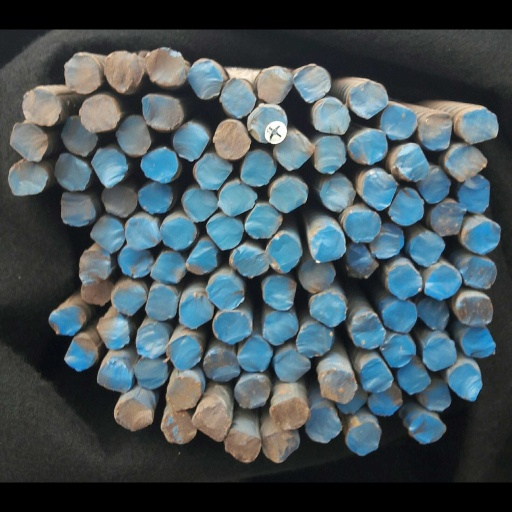dipstick: (104, 23, 142, 71), (247, 83, 287, 128), (144, 20, 184, 63), (446, 129, 486, 172), (10, 105, 48, 150), (61, 97, 98, 143), (22, 66, 61, 109), (115, 96, 152, 141), (53, 139, 91, 182), (91, 135, 128, 179), (273, 119, 313, 159), (349, 58, 387, 100), (214, 101, 249, 146), (141, 73, 180, 113), (269, 413, 309, 452), (79, 74, 117, 115), (269, 166, 307, 207), (195, 139, 232, 181), (173, 105, 209, 148), (64, 28, 99, 72), (265, 231, 300, 275), (191, 427, 230, 466), (348, 113, 387, 152), (8, 150, 48, 188), (141, 133, 178, 174), (256, 41, 292, 83), (187, 35, 222, 78), (389, 179, 424, 222), (447, 377, 482, 420), (221, 55, 255, 99), (206, 278, 244, 317), (298, 259, 336, 298), (114, 416, 154, 453), (237, 346, 273, 387), (294, 41, 330, 82), (313, 77, 349, 118), (417, 153, 450, 197), (457, 163, 490, 207), (305, 428, 342, 467), (425, 266, 462, 305), (319, 166, 355, 206), (311, 222, 346, 263), (369, 217, 404, 258), (351, 319, 385, 361), (362, 162, 396, 204), (395, 128, 429, 170), (111, 285, 147, 324), (219, 172, 255, 211), (245, 197, 281, 236), (262, 317, 298, 356), (380, 85, 416, 124), (90, 213, 125, 253), (166, 345, 201, 385), (240, 136, 274, 177), (419, 94, 453, 135), (464, 217, 501, 254), (161, 431, 197, 469), (165, 392, 201, 430), (224, 453, 262, 489), (214, 318, 250, 356), (296, 332, 332, 370), (309, 297, 345, 335), (461, 90, 497, 128), (60, 183, 95, 222), (367, 398, 402, 437), (409, 229, 444, 268), (179, 298, 213, 338), (212, 319, 252, 353), (64, 346, 97, 387), (313, 120, 346, 161), (118, 244, 154, 281), (206, 213, 243, 249), (421, 348, 457, 385), (183, 179, 218, 217), (321, 384, 356, 422), (347, 443, 381, 482), (160, 213, 196, 249), (232, 243, 268, 279), (274, 362, 310, 398), (203, 363, 240, 398), (263, 454, 300, 489), (381, 344, 415, 382), (383, 305, 417, 343), (78, 249, 111, 288), (97, 323, 130, 362), (387, 265, 420, 304), (101, 177, 137, 212), (234, 393, 270, 428), (138, 172, 173, 208), (456, 300, 492, 335), (97, 374, 131, 411), (126, 212, 160, 249), (431, 195, 465, 232), (135, 333, 168, 371), (145, 290, 178, 328), (264, 279, 297, 317), (360, 371, 393, 409), (418, 393, 451, 431), (151, 252, 186, 287), (134, 370, 168, 406), (345, 206, 381, 240), (460, 258, 496, 292), (408, 434, 444, 467), (186, 238, 217, 276), (462, 336, 494, 371), (48, 313, 81, 346), (80, 284, 114, 313), (336, 404, 367, 435)
